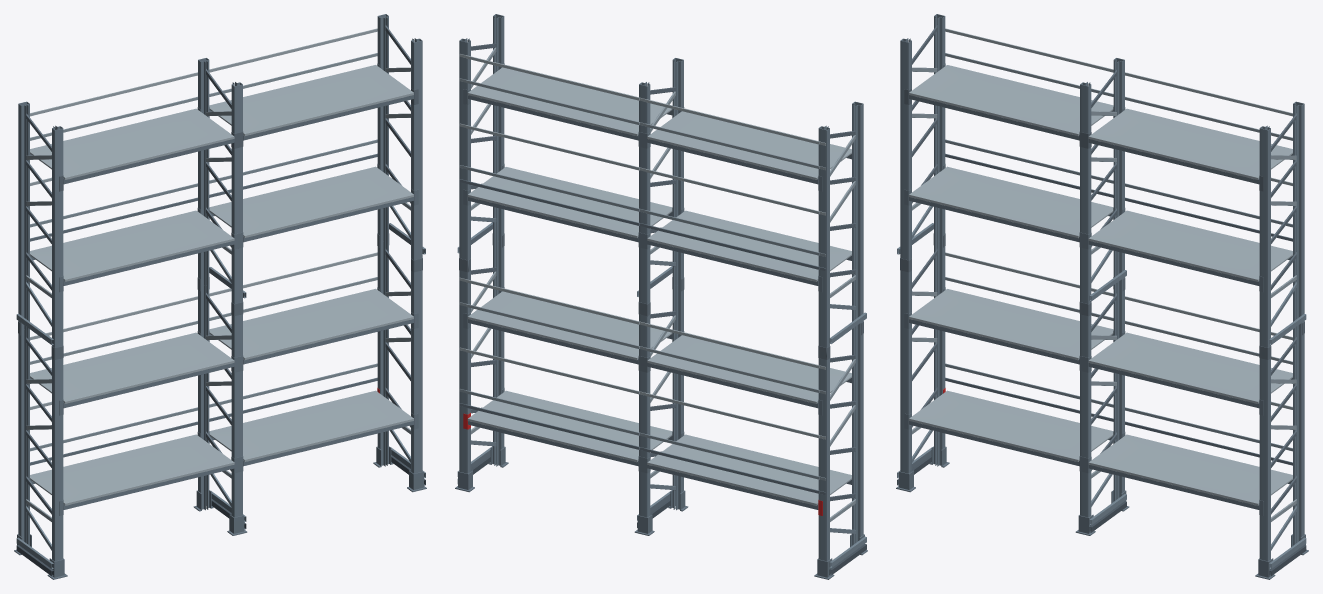
Rendered from SM_ShelfEmptyx3_White_B.fbx.
3 renders of one model, left to right at view 1: azimuth 30°, elevation 25°; view 2: azimuth 150°, elevation 25°; view 3: azimuth 330°, elevation 25°, orthographic.
Parts seen in each view (by area): view 1: SM_ShelfEmptyx3_White_B; view 2: SM_ShelfEmptyx3_White_B; view 3: SM_ShelfEmptyx3_White_B.
Boxes of the visible parts, <box> form: SM_ShelfEmptyx3_White_B: <box>14,14,426,579</box>; SM_ShelfEmptyx3_White_B: <box>455,14,867,579</box>; SM_ShelfEmptyx3_White_B: <box>896,14,1308,579</box>.
Bounding box in the file's own units: 646 × 739 × 118.
